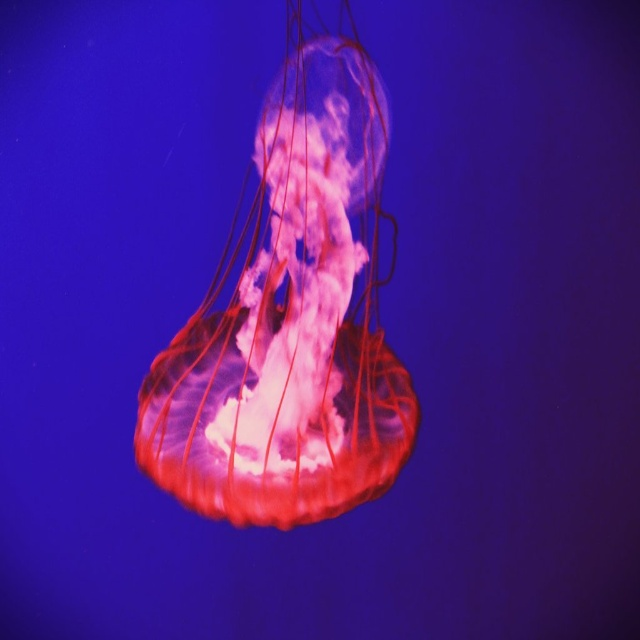Jellyfish: (121, 0, 425, 563)
